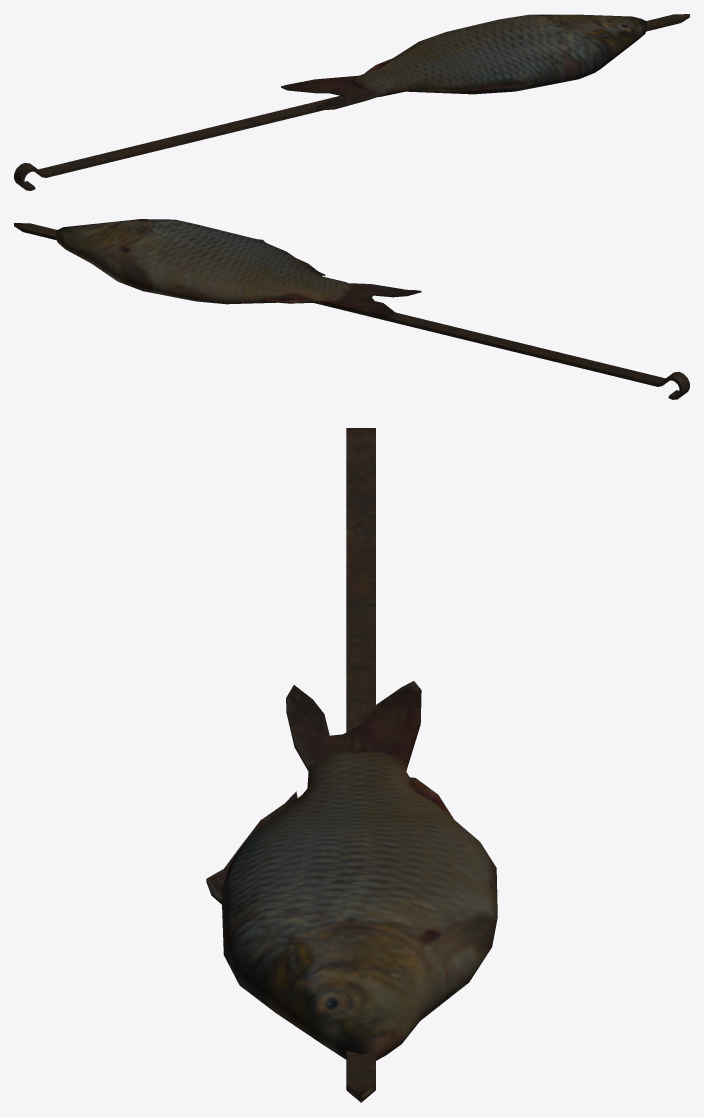
The model's file is melee_fish_skewer_mx_1.obj.
3 renders of one model, top to bottom at view 1: azimuth 30°, elevation 25°; view 2: azimuth 150°, elevation 25°; view 3: azimuth 270°, elevation 25°, orthographic. The views are drawn at different scales.
Visible parts, largest first — view 1: melee_fish_skewer_mx_1; view 2: melee_fish_skewer_mx_1; view 3: melee_fish_skewer_mx_1.
Part boxes in pixels (<box>): melee_fish_skewer_mx_1: <box>14,14,689,190</box>; melee_fish_skewer_mx_1: <box>14,219,689,399</box>; melee_fish_skewer_mx_1: <box>206,428,497,1102</box>.
Size of the model in its own units: 1.06 by 0.0646 by 0.1985.
